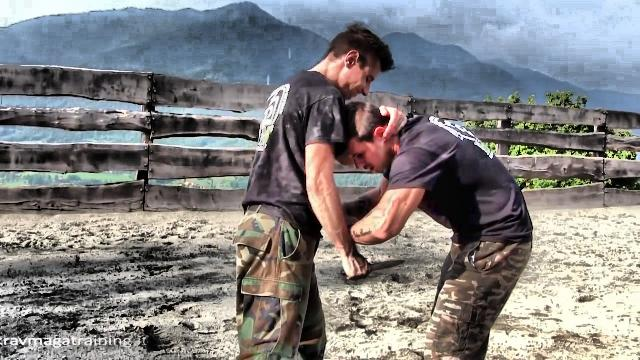knife: (338, 253, 409, 283)
